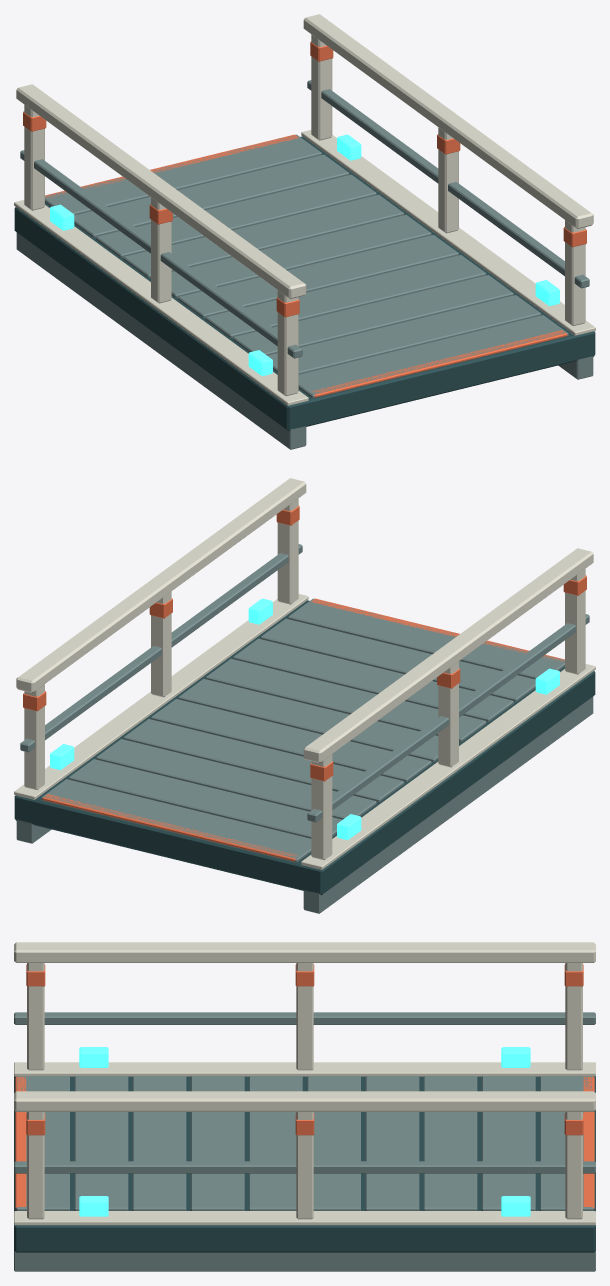
The model's file is bridge_module.glb.
3 renders of one model, top to bottom at view 1: azimuth 30°, elevation 25°; view 2: azimuth 150°, elevation 25°; view 3: azimuth 270°, elevation 25°, orthographic. The views are drawn at different scales.
Visible parts, largest first — view 1: bridge_module; view 2: bridge_module; view 3: bridge_module.
Boxes of the visible parts, <box> form: bridge_module: <box>14,14,595,449</box>; bridge_module: <box>14,478,595,913</box>; bridge_module: <box>14,942,595,1271</box>.
Size of the model in its own units: 2.6 by 1.31 by 4.
